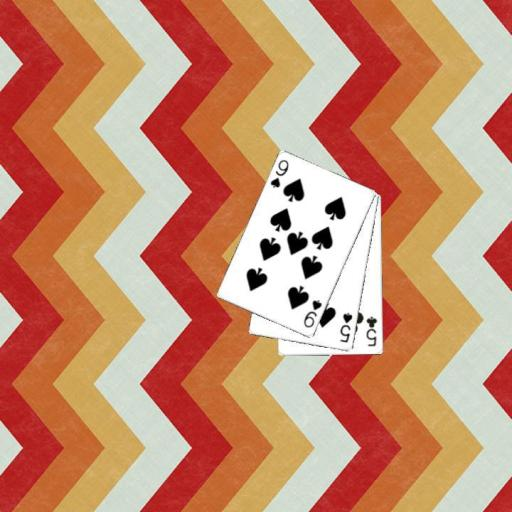5C: (364, 314, 379, 348)
5S: (337, 310, 354, 344)
9S: (268, 156, 291, 190), (301, 297, 324, 329)
